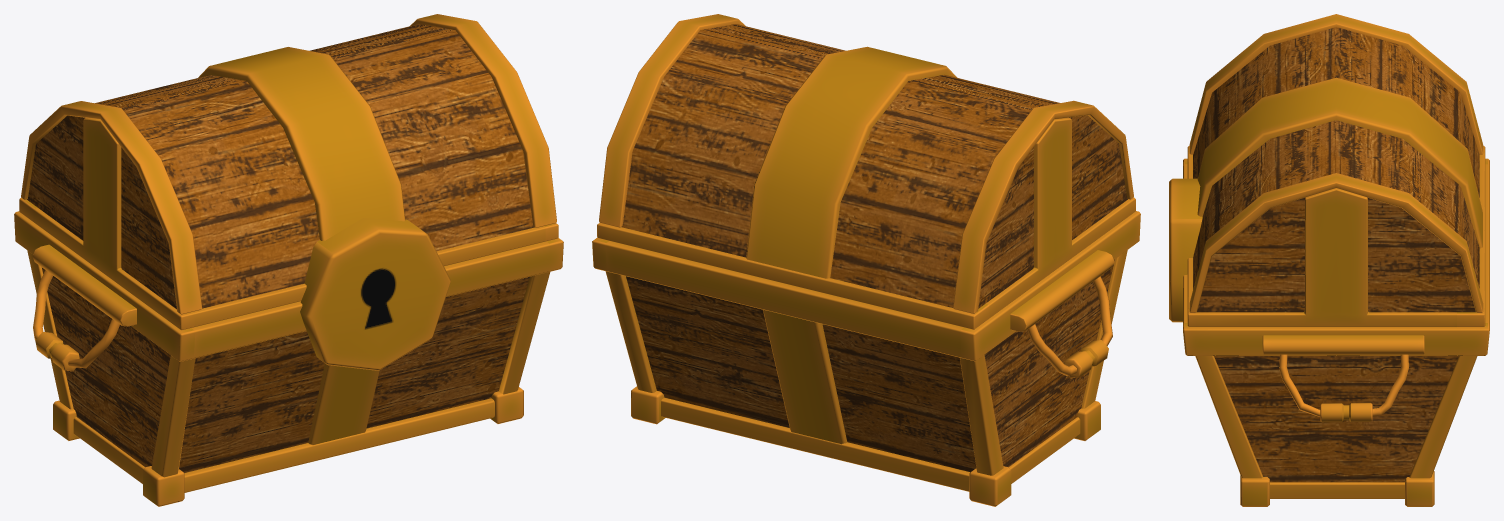
The model's file is Treasure_chest.fbx.
The picture shows the model from 3 angles, left to right: view 1: azimuth 30°, elevation 25°; view 2: azimuth 150°, elevation 25°; view 3: azimuth 270°, elevation 25°; orthographic projection. The views are drawn at different scales.
Parts seen in each view (by area): view 1: Treasure_chest; view 2: Treasure_chest; view 3: Treasure_chest.
Part boxes in pixels (<box>): Treasure_chest: <box>14,14,563,506</box>; Treasure_chest: <box>592,14,1140,506</box>; Treasure_chest: <box>1169,14,1489,506</box>.
Bounding box in the file's own units: 278 × 204 × 179.
